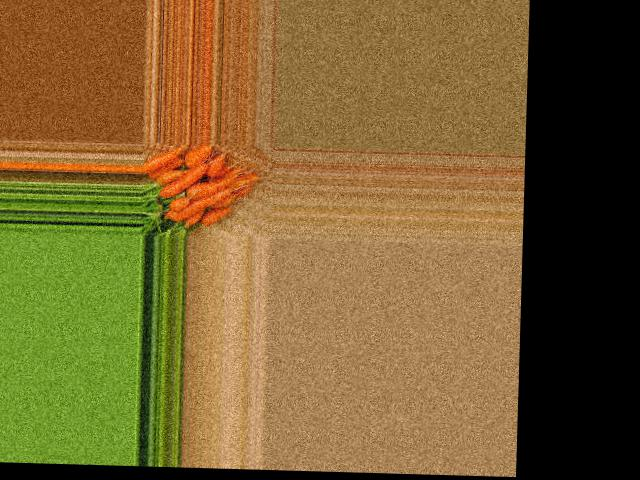carrot: (187, 208, 208, 230)
